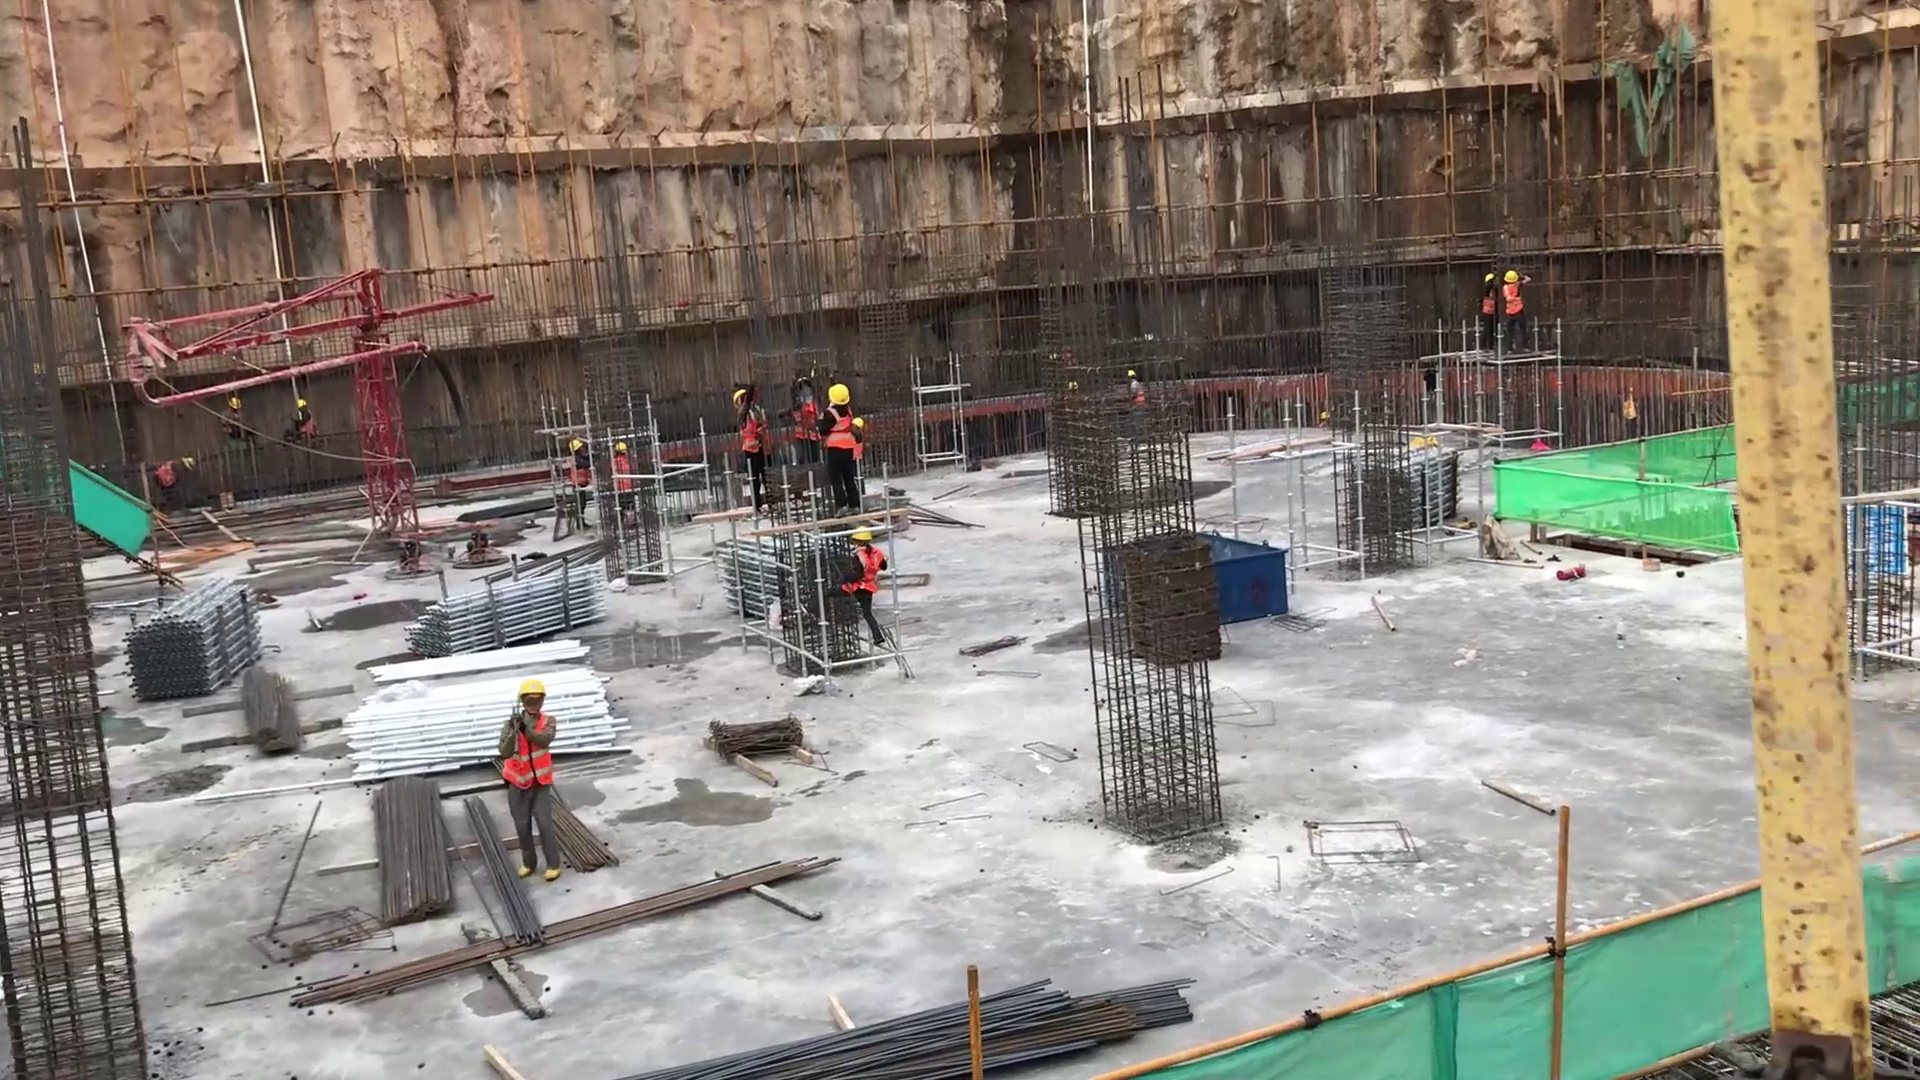helmet: (518, 677, 546, 701), (825, 382, 851, 409), (179, 452, 197, 473), (850, 528, 873, 542), (1502, 269, 1520, 285), (225, 394, 243, 410), (569, 437, 583, 452), (733, 389, 743, 407), (1481, 273, 1494, 283), (614, 444, 626, 451)
person: (493, 685, 575, 885), (824, 521, 896, 644), (731, 385, 779, 514), (820, 382, 855, 505), (1503, 267, 1534, 349), (1474, 268, 1500, 345), (291, 397, 318, 451)
vest: (493, 707, 566, 799), (843, 540, 884, 594), (735, 408, 772, 456), (822, 409, 855, 454), (1500, 285, 1526, 316), (1476, 286, 1496, 318)
